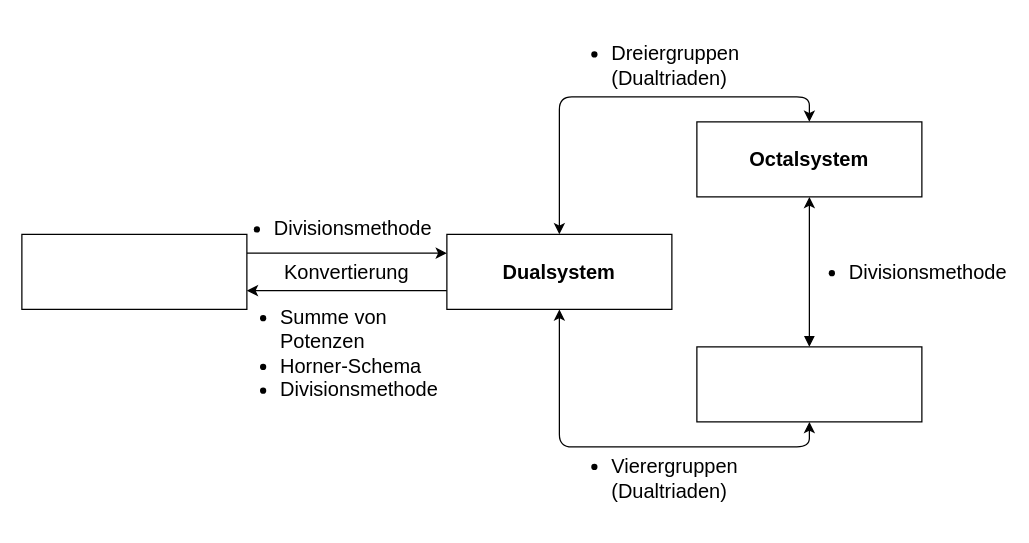
Some shapes in this 1029 by 543 pixel diagram are drawn without their labels. Here are the shapes that lost their labels. From the top down, the centre of each, then its label:
At (134,271): "Dezimalsystem".
At (809,384): "Hexadezimalsystem".
